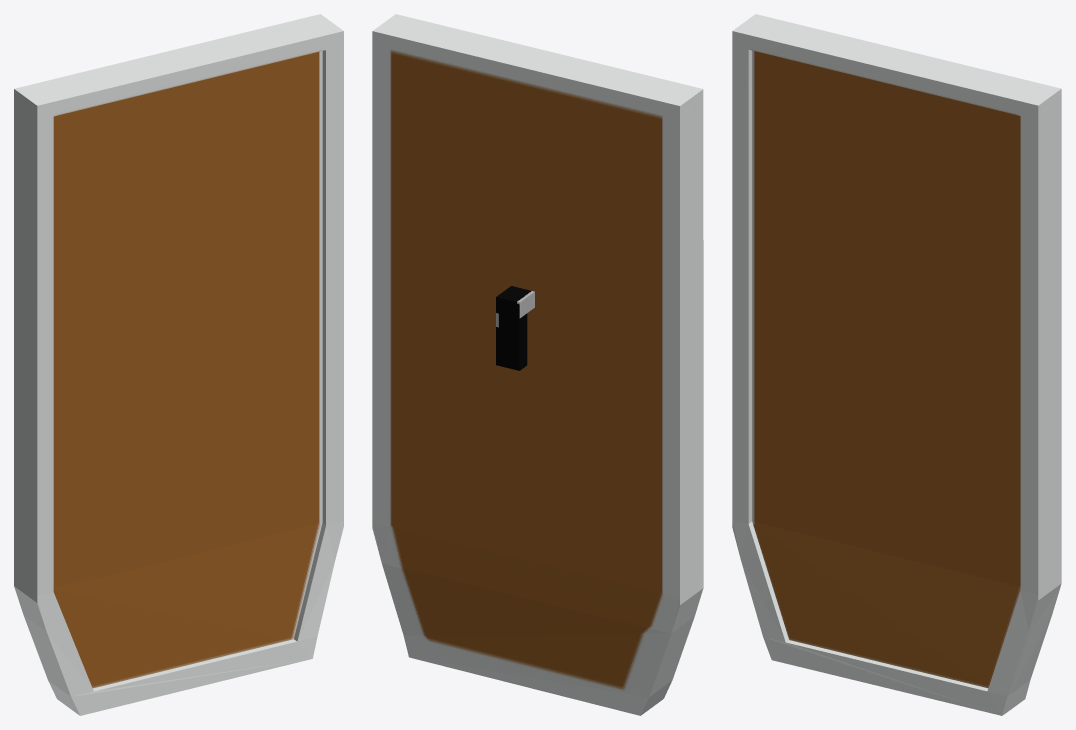
Rendered from Shield.fbx.
The picture shows the model from 3 angles, left to right: view 1: azimuth 30°, elevation 25°; view 2: azimuth 150°, elevation 25°; view 3: azimuth 330°, elevation 25°; orthographic projection.
Visible parts, largest first — view 1: shield; view 2: shield, handlenon; view 3: shield.
Part boxes in pixels (x1,y1,x2,y2): shield: (14,14,343,715); shield: (372,14,703,715); handlenon: (496,286,534,370); shield: (732,14,1061,715).
Bounding box in the file's own units: 65.02 × 125 × 15.1.
